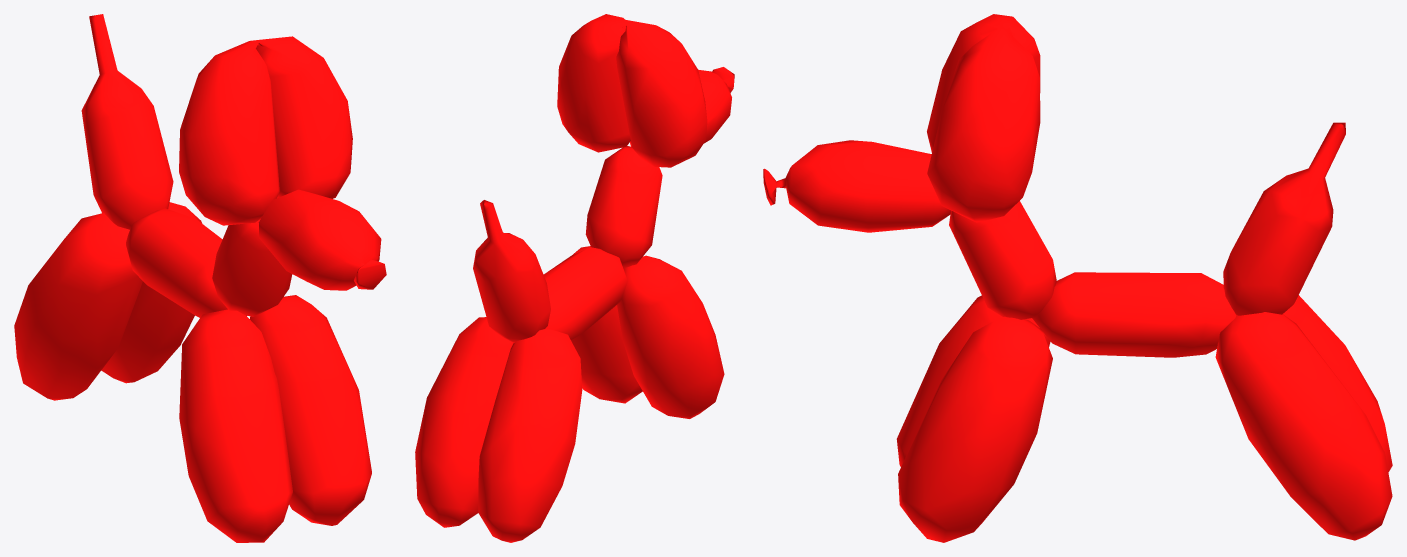
The picture shows the model from 3 angles, left to right: view 1: azimuth 30°, elevation 25°; view 2: azimuth 150°, elevation 25°; view 3: azimuth 270°, elevation 25°; orthographic projection. The views are drawn at different scales.
Parts seen in each view (by area): view 1: BalloonAnimalShortRed; view 2: BalloonAnimalShortRed; view 3: BalloonAnimalShortRed.
Part boxes in pixels (box(x1,y1,x2,y2)): BalloonAnimalShortRed: box(14, 14, 386, 542); BalloonAnimalShortRed: box(415, 14, 734, 542); BalloonAnimalShortRed: box(763, 14, 1392, 542).
Size of what is drawn, in the model's own units: 0.2112 by 0.561 by 0.6487.
1 material, 1 textured.
